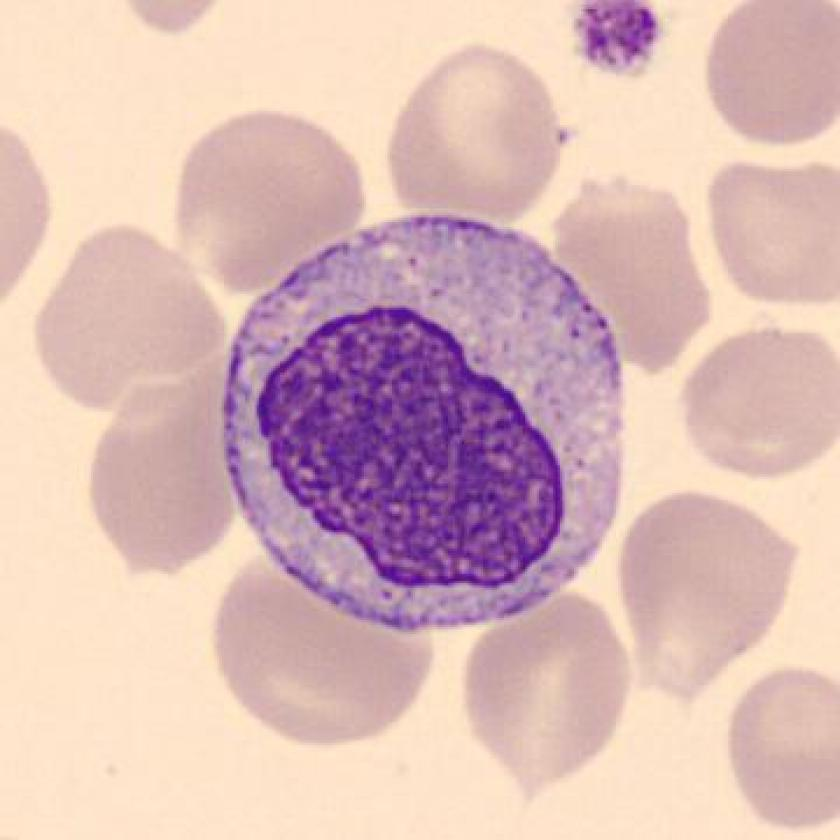monocyte: (206, 193, 645, 649)
